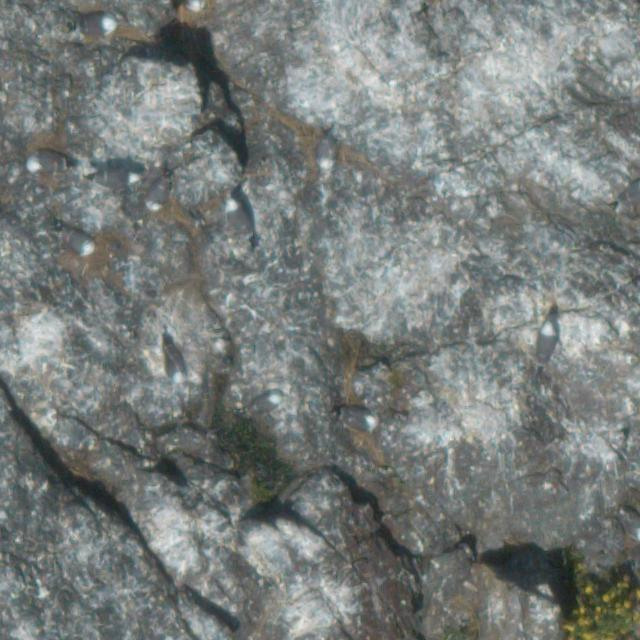umineko: (164, 336, 188, 386), (315, 131, 337, 173), (224, 201, 249, 237), (75, 15, 117, 34), (60, 230, 93, 254), (538, 323, 556, 360), (148, 179, 169, 210), (29, 154, 63, 173), (341, 411, 376, 429), (247, 395, 280, 413), (98, 170, 131, 187), (621, 513, 640, 540), (185, 0, 204, 9)
